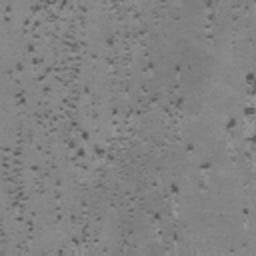Oxide scale of temperature system: (2, 4, 256, 256), (71, 223, 90, 246)
